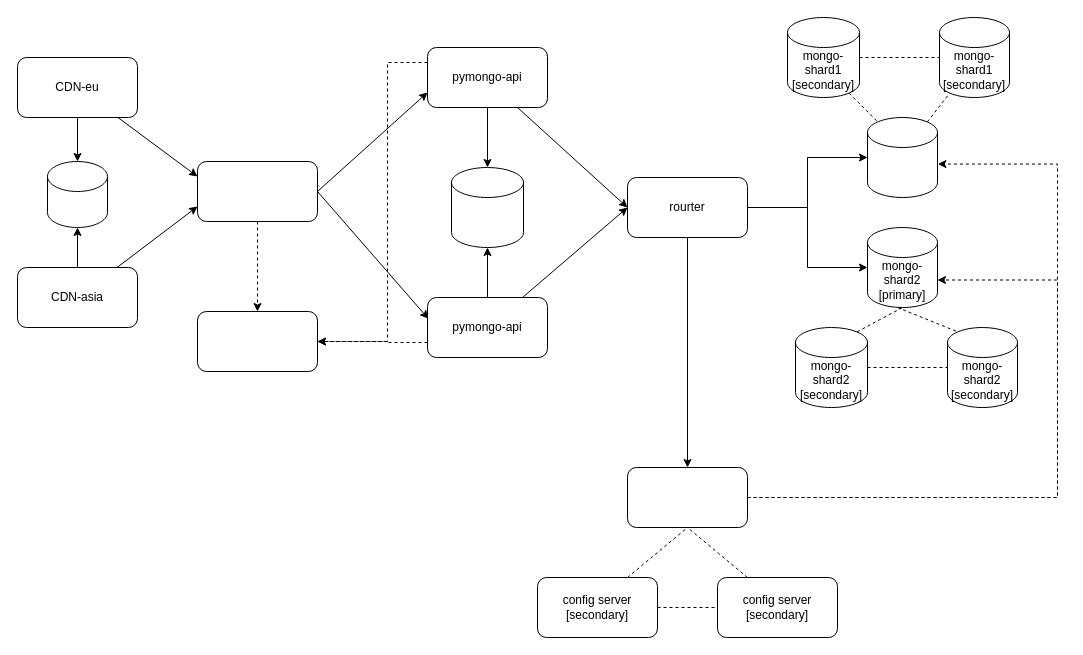
Image size: 1083x655. Some labels were removed from this diagram. The shapes that lost their labels are listed below. From the top down, each one's centre as x and y in pixels, then its label:
At (902,157): "mongo-shard1 [primary]".
At (77,194): "s3".
At (257,191): "API Gateway [APISIX]".
At (487,207): "Redis".
At (257,341): "Service Discovery [consul]".
At (687,497): "config server [primary]".
